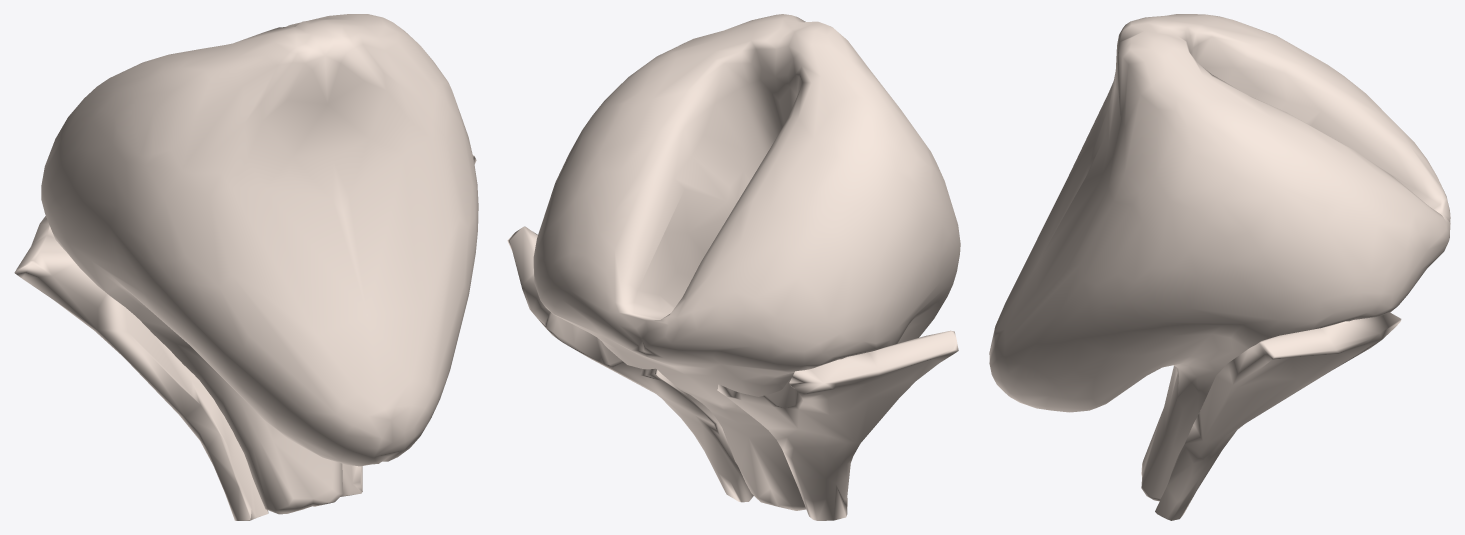
Rendered from nervoso-hypothalamus.glb.
3 renders of one model, left to right at view 1: azimuth 30°, elevation 25°; view 2: azimuth 150°, elevation 25°; view 3: azimuth 270°, elevation 25°, orthographic. The views are drawn at different scales.
Visible parts, largest first — view 1: Hypothalamus; view 2: Hypothalamus; view 3: Hypothalamus.
Part boxes in pixels (<box>): Hypothalamus: <box>14,14,478,520</box>; Hypothalamus: <box>507,14,960,520</box>; Hypothalamus: <box>989,14,1450,520</box>.
Bounding box in the file's own units: 0.0192 × 0.0194 × 0.0174.
